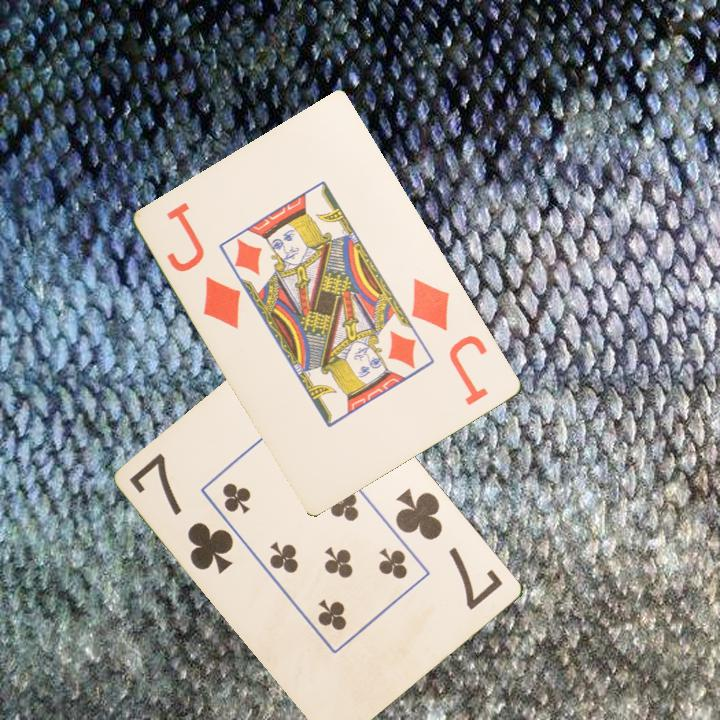7c: (392, 485, 507, 613), (126, 449, 238, 577)
Jd: (408, 274, 492, 409), (163, 198, 245, 333)
